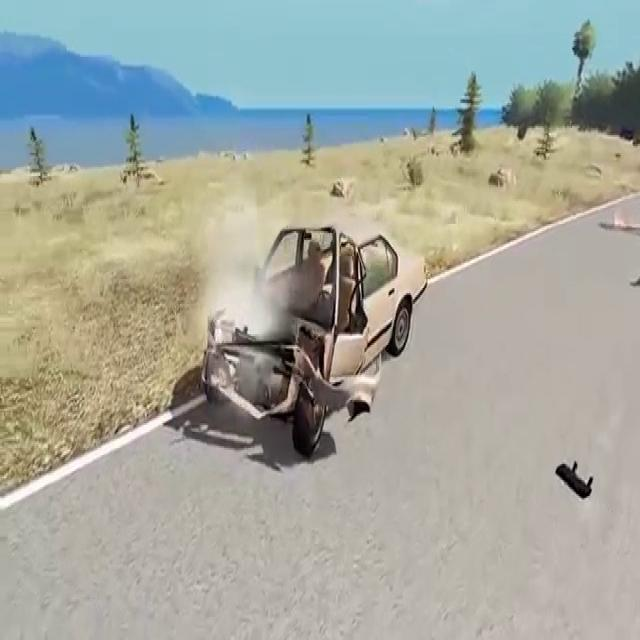severe: (193, 218, 430, 454)
